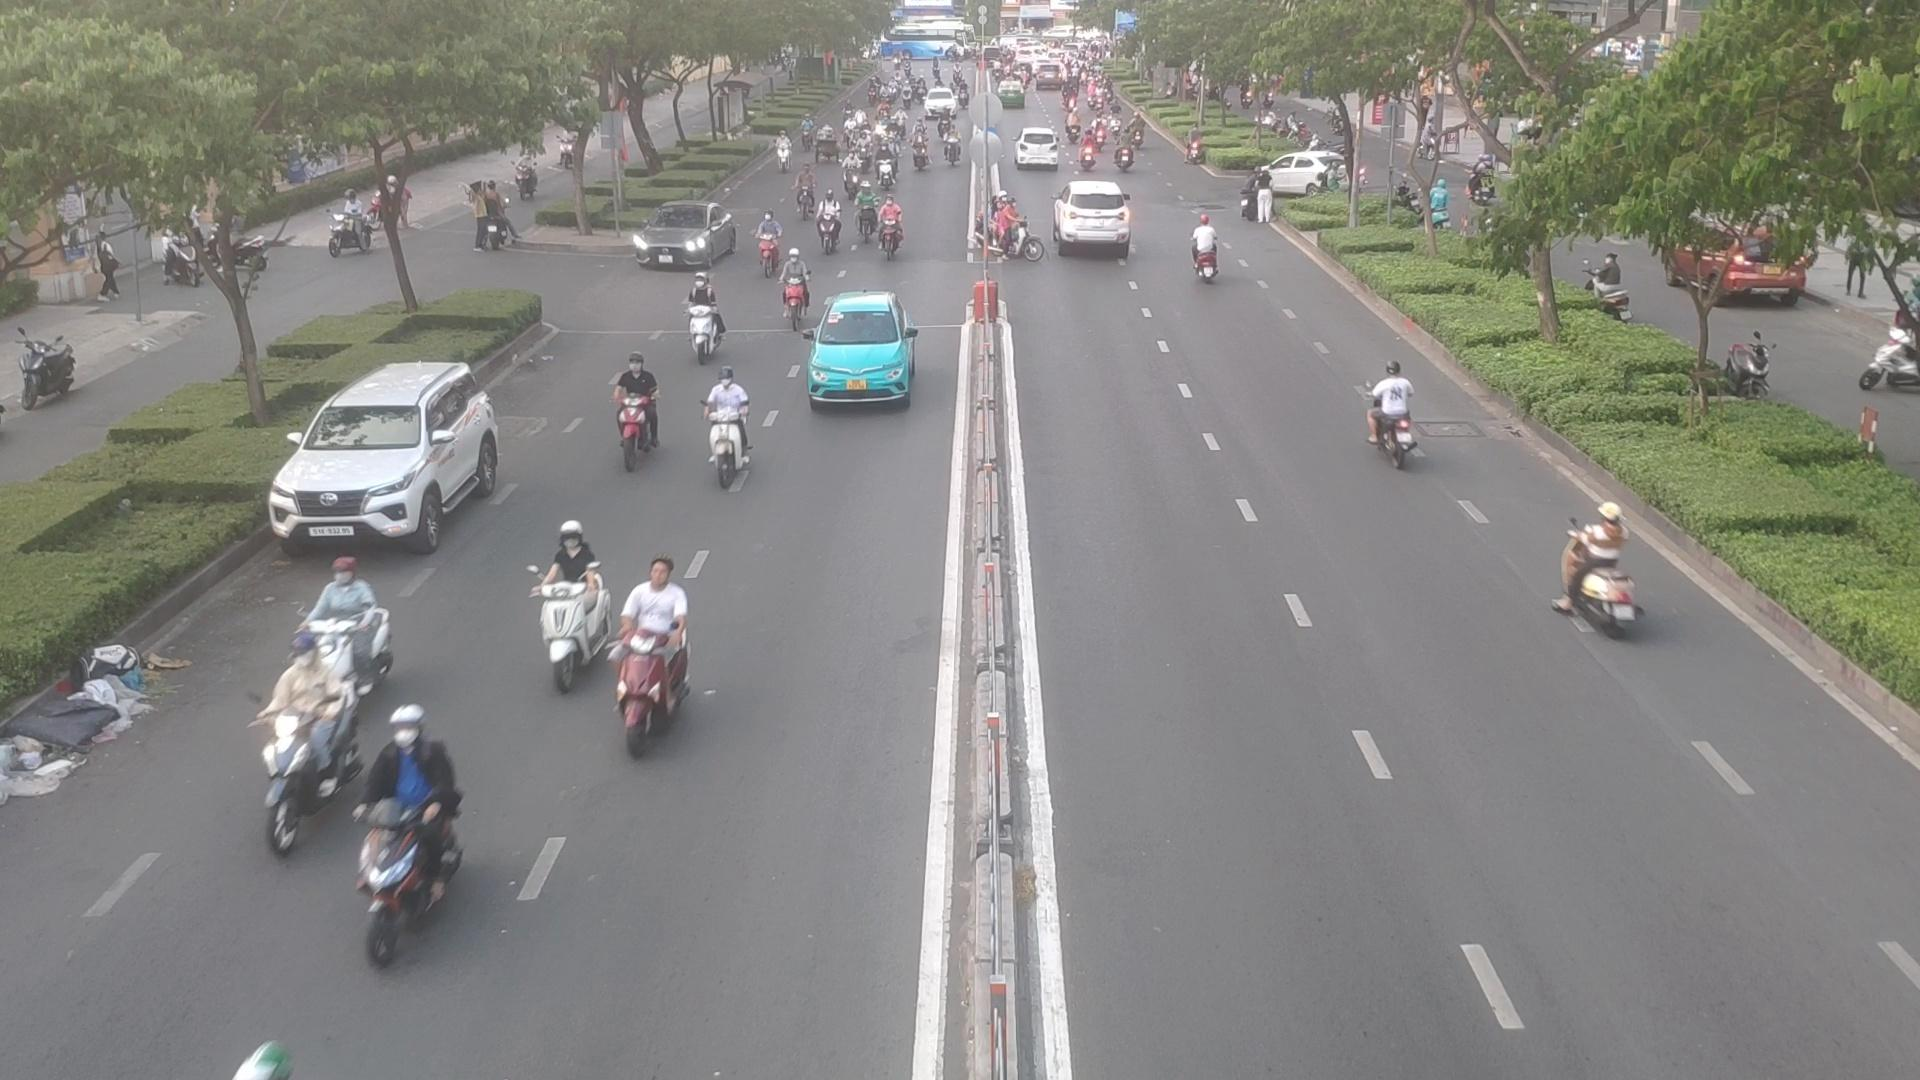car: (269, 363, 505, 560), (804, 293, 918, 411), (628, 204, 742, 273), (1058, 179, 1141, 257), (1251, 150, 1342, 195), (1011, 128, 1063, 167)
motorbike: (326, 692, 476, 971), (241, 642, 357, 841), (626, 555, 694, 753), (1545, 491, 1636, 636), (307, 567, 388, 712), (539, 520, 600, 700), (607, 357, 673, 473), (1366, 367, 1422, 483), (698, 372, 752, 485), (682, 266, 727, 360), (1182, 212, 1229, 287), (986, 210, 1048, 262), (781, 255, 812, 320), (851, 181, 882, 233), (878, 196, 905, 256), (818, 189, 840, 251), (758, 204, 778, 274), (840, 152, 862, 202), (796, 158, 811, 225), (1118, 128, 1137, 175), (877, 144, 895, 189), (913, 131, 932, 171), (855, 132, 874, 171), (944, 127, 963, 167), (1076, 131, 1095, 167), (775, 129, 791, 164)
